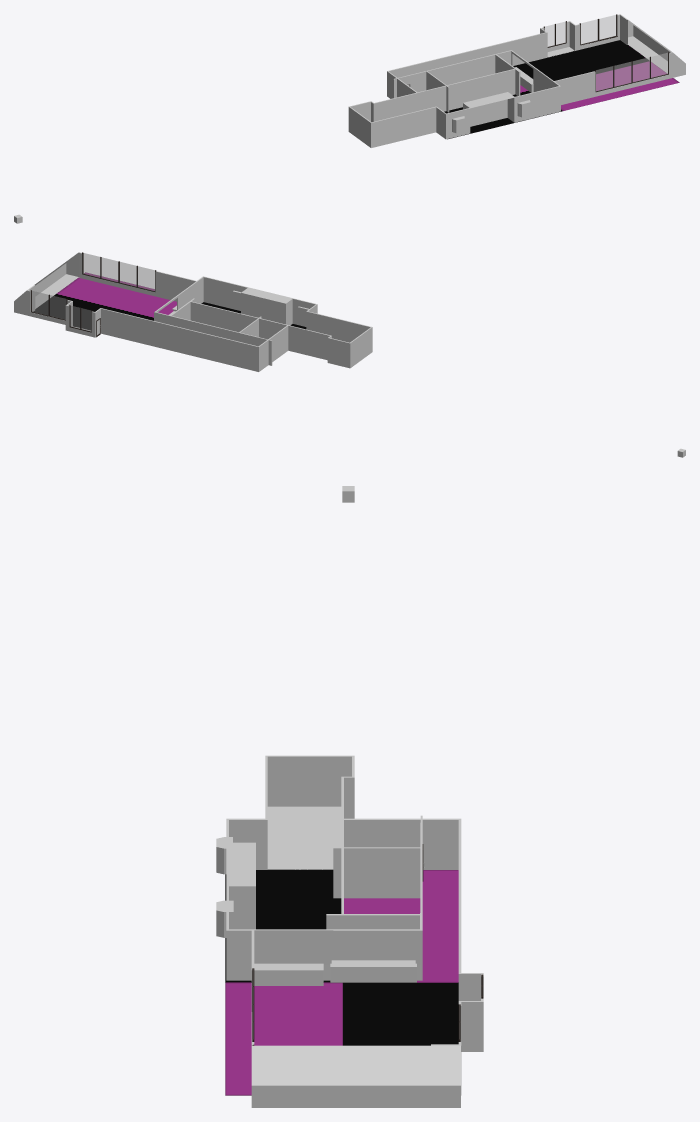
File: Porkies Resturant .fbx
The picture shows the model from 3 angles, top to bottom: view 1: azimuth 30°, elevation 25°; view 2: azimuth 150°, elevation 25°; view 3: azimuth 270°, elevation 25°; orthographic projection. The views are drawn at different scales.
Visible parts, largest first — view 1: Building v2, Plane, Window -Y, Window Y, Window Y Airlock; view 2: Building v2, Plane, Window -Y, Window Y, Window Y Airlock; view 3: Building v2, Plane, Cube.010, Cube.012.
Part boxes in pixels (bbox=[...]): Building v2: bbox=[14, 14, 685, 223]; Plane: bbox=[444, 40, 679, 139]; Window -Y: bbox=[596, 53, 667, 91]; Window Y: bbox=[581, 15, 616, 44]; Window Y Airlock: bbox=[545, 21, 565, 46]; Building v2: bbox=[14, 252, 685, 457]; Plane: bbox=[33, 272, 306, 330]; Window -Y: bbox=[83, 253, 154, 290]; Window Y: bbox=[31, 290, 66, 319]; Window Y Airlock: bbox=[70, 305, 91, 331]; Building v2: bbox=[226, 486, 483, 1107]; Plane: bbox=[225, 869, 458, 1095]; Cube.010: bbox=[330, 968, 416, 982]; Cube.012: bbox=[254, 971, 323, 985].
Bounding box in the file's own units: 7281 × 368 × 1311.
Materials: 15 (1 with a texture image).
